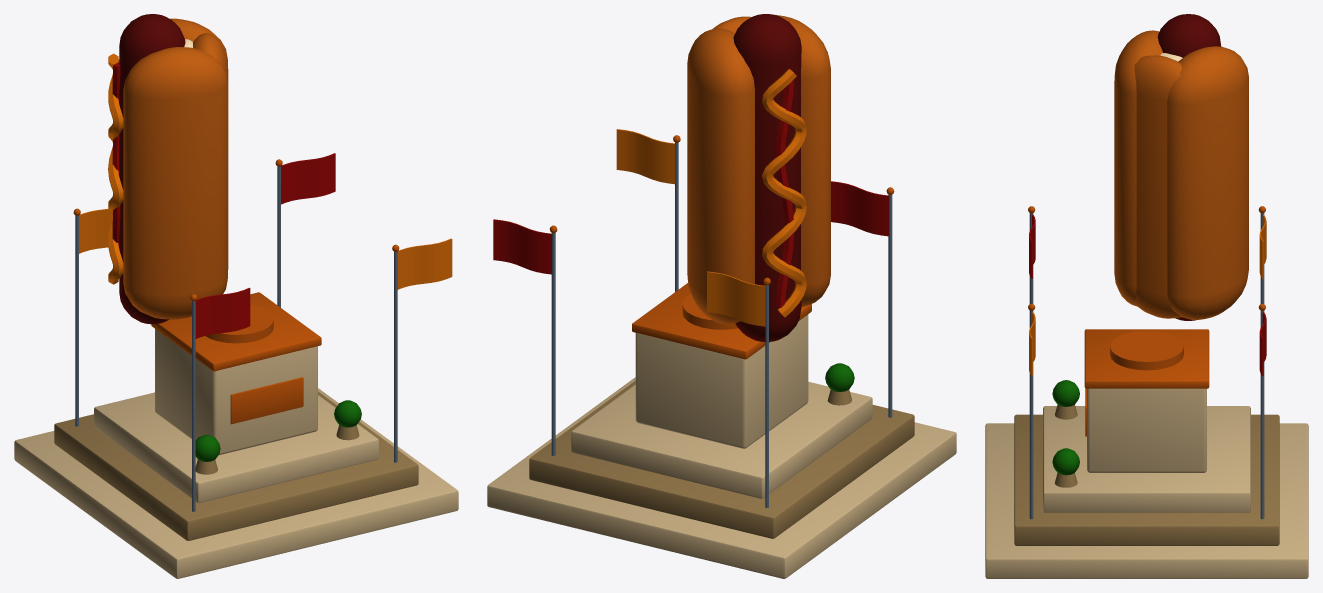
File: RepublicMonument.obj
3 views of the same model, side by side, from view 1: azimuth 30°, elevation 25°; view 2: azimuth 150°, elevation 25°; view 3: azimuth 270°, elevation 25° (orthographic). The views are drawn at different scales.
Visible parts, largest first — view 1: RepublicMonument; view 2: RepublicMonument; view 3: RepublicMonument.
Part boxes in pixels (x1,y1,x2,y2): RepublicMonument: [14, 14, 458, 578]; RepublicMonument: [487, 14, 956, 578]; RepublicMonument: [985, 14, 1308, 578].
Size of the model in its own units: 14.8 by 22.2 by 14.
